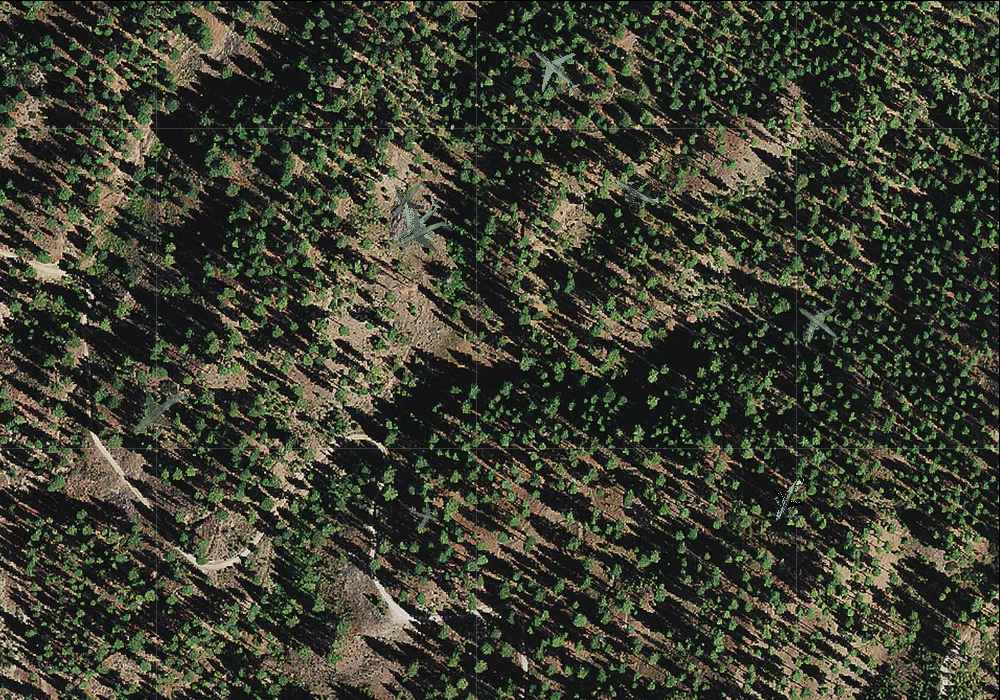plane: (116, 368, 206, 457), (376, 181, 457, 261), (516, 32, 594, 109), (387, 197, 461, 269), (783, 289, 855, 361), (603, 157, 673, 224), (377, 167, 441, 232), (759, 466, 820, 531), (405, 497, 443, 533)
